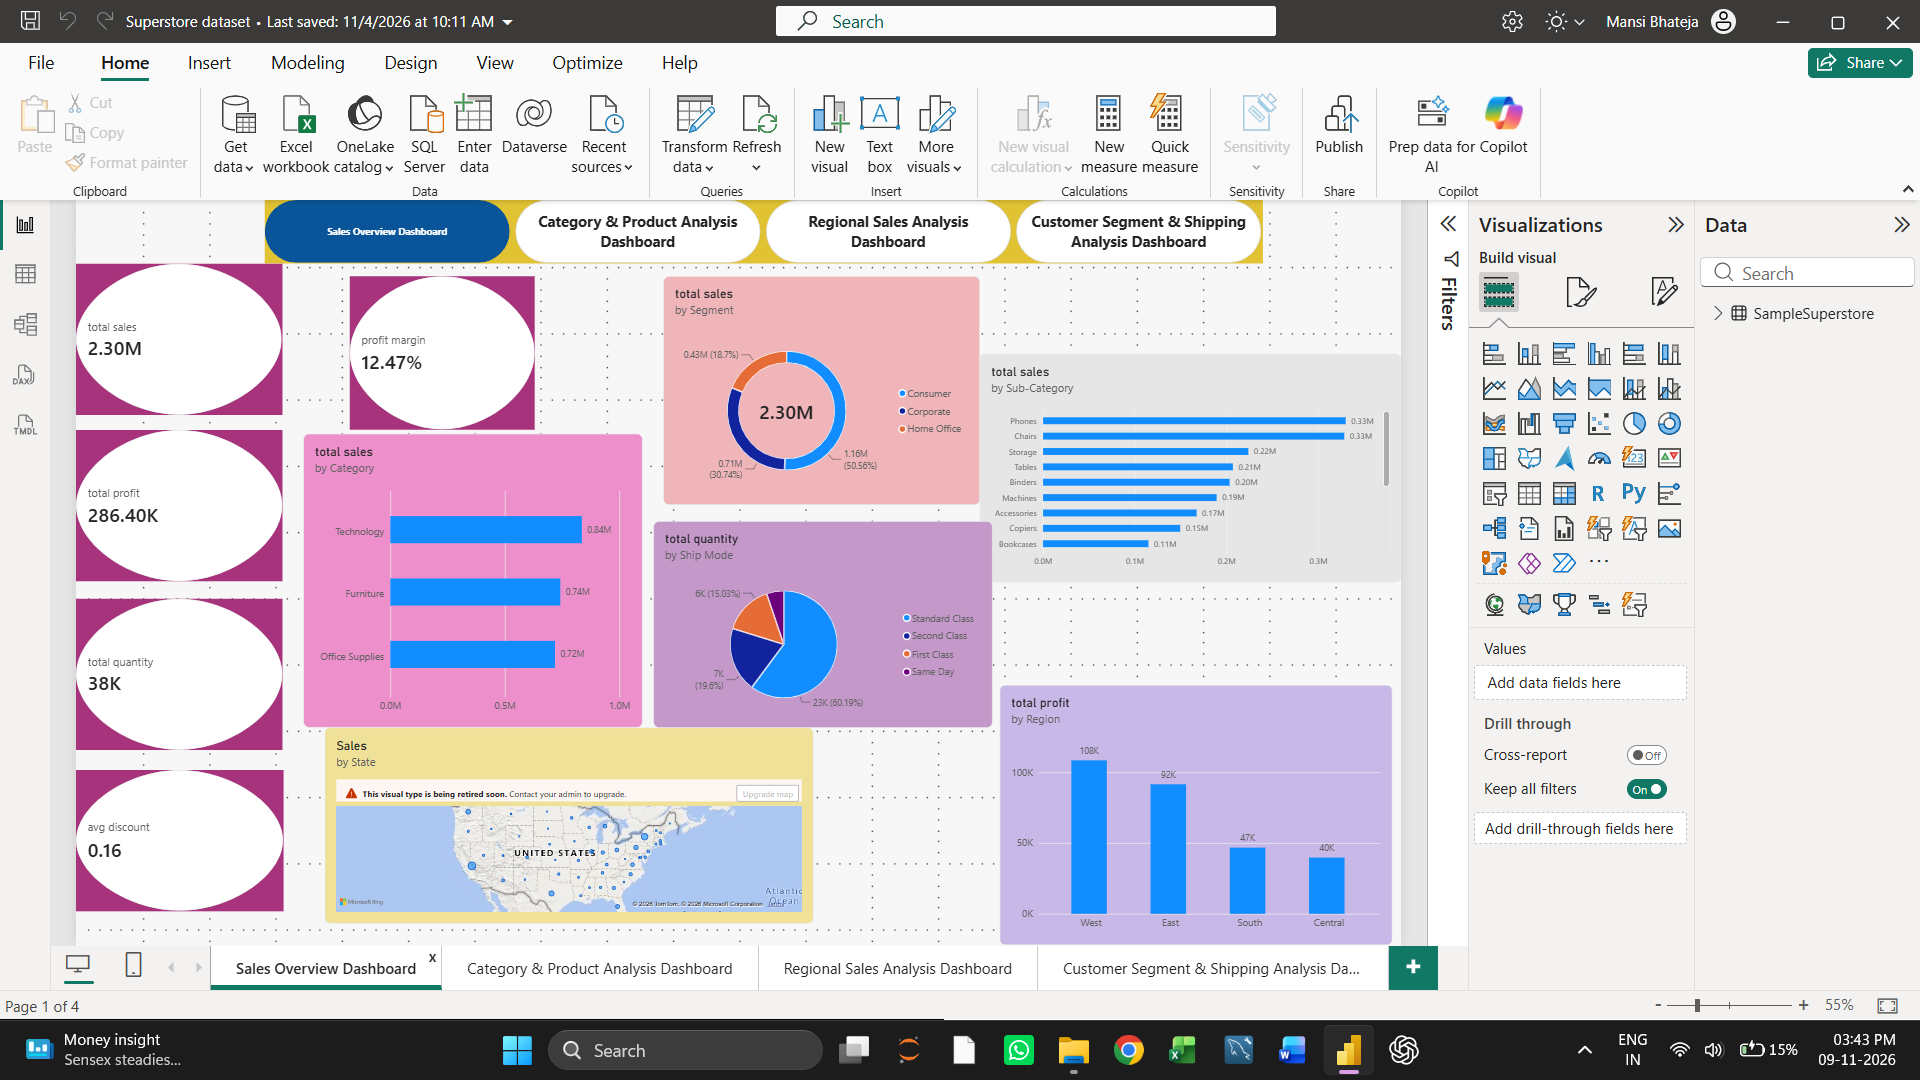

This screenshot's page, from the dashboard's own definition file:
{"tool":"powerbi","page":{"name":"Sales Overview Dashboard","canvas":[1920,1080],"ordinal":0},"visuals":[{"type":"pageNavigator","box":[273.4,0,1446.3,91.8],"z":0},{"type":"cardVisual","fields":{"Data":["SampleSuperstore.total sales"]},"box":[0,92.4,298.9,219.2],"z":1},{"type":"cardVisual","fields":{"Data":["SampleSuperstore.total profit"]},"box":[0,333.3,299,219],"z":2},{"type":"cardVisual","fields":{"Data":["SampleSuperstore.total quantity"]},"box":[0,577.8,299,219],"z":3},{"type":"cardVisual","fields":{"Data":["SampleSuperstore.avg discount"]},"box":[0,826,300.7,204.7],"z":4},{"type":"cardVisual","fields":{"Data":["SampleSuperstore.profit margin"]},"box":[396.7,110.5,268.1,222.8],"z":5},{"type":"barChart","fields":{"Category":["SampleSuperstore.Category"],"Y":["SampleSuperstore.total sales"]},"box":[329.7,338.7,490.9,425.7],"z":6},{"type":"columnChart","fields":{"Category":["SampleSuperstore.Region"],"Y":["SampleSuperstore.total profit"]},"box":[1338.6,702.8,568.8,376.8],"z":7},{"type":"donutChart","fields":{"Category":["SampleSuperstore.Segment"],"Y":["SampleSuperstore.total sales"]},"box":[851.3,110.5,458.3,331.5],"z":8},{"type":"barChart","fields":{"Category":["SampleSuperstore.Sub-Category"],"Y":["SampleSuperstore.total sales"]},"box":[1309.6,222.8,610.4,331.5],"z":9},{"type":"map","fields":{"Category":["SampleSuperstore.State"],"Size":["Sum(SampleSuperstore.Sales)"]},"box":[360.5,764.4,708.2,284.4],"z":10},{"type":"pieChart","fields":{"Category":["SampleSuperstore.Ship Mode"],"Y":["SampleSuperstore.total quantity"]},"box":[836.8,465.5,490.9,298.9],"z":11}]}

Visuals, with their boxes on the page's 1920x1080 design canvas (x1, y1, x2, y2). These are canvas units, not pixel positions in the 1920x1080 screenshot, which may show the page scaled, cropped or inside an application window:
pageNavigator: (273,0,1720,92)
cardVisual - SampleSuperstore.total sales: (0,92,299,312)
cardVisual - SampleSuperstore.total profit: (0,333,299,552)
cardVisual - SampleSuperstore.total quantity: (0,578,299,797)
cardVisual - SampleSuperstore.avg discount: (0,826,301,1031)
cardVisual - SampleSuperstore.profit margin: (397,110,665,333)
barChart - SampleSuperstore.Category x SampleSuperstore.total sales: (330,339,821,764)
columnChart - SampleSuperstore.Region x SampleSuperstore.total profit: (1339,703,1907,1080)
donutChart - SampleSuperstore.Segment x SampleSuperstore.total sales: (851,110,1310,442)
barChart - SampleSuperstore.Sub-Category x SampleSuperstore.total sales: (1310,223,1920,554)
map - SampleSuperstore.State x Sum(SampleSuperstore.Sales): (360,764,1069,1049)
pieChart - SampleSuperstore.Ship Mode x SampleSuperstore.total quantity: (837,466,1328,764)
